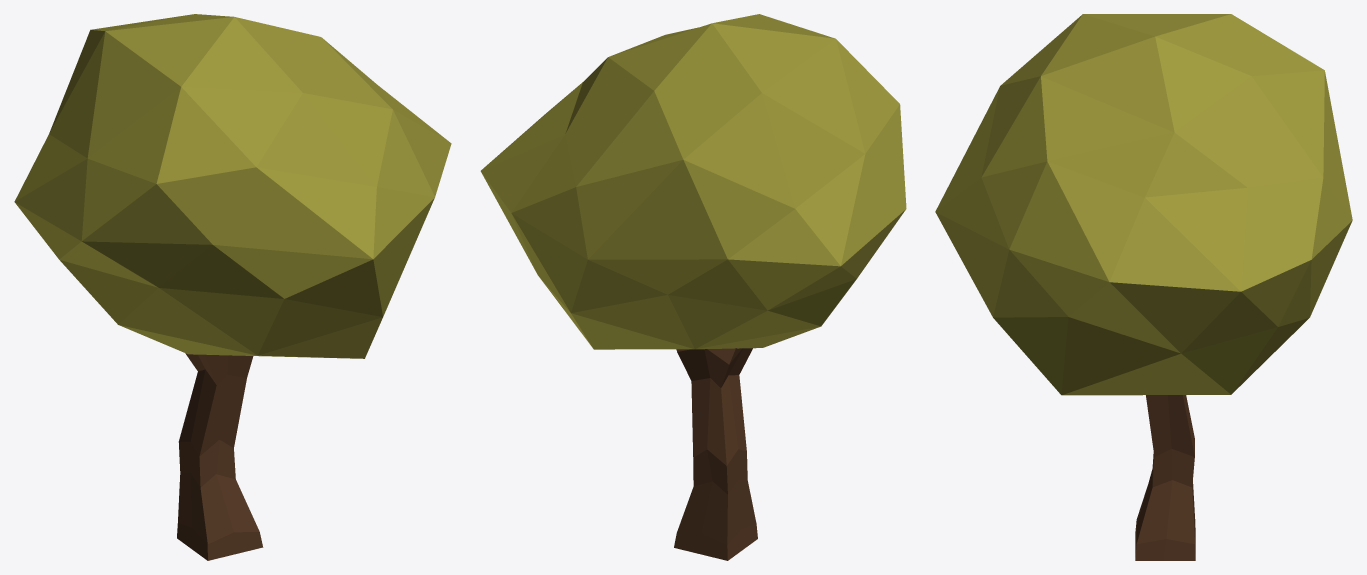
File: Tree_32_Yellow.fbx
3 renders of one model, left to right at view 1: azimuth 30°, elevation 25°; view 2: azimuth 150°, elevation 25°; view 3: azimuth 270°, elevation 25°, orthographic. The views are drawn at different scales.
Parts seen in each view (by area): view 1: Tree_32_Yellow_Part_1, Tree_32_Yellow_Part_2; view 2: Tree_32_Yellow_Part_1, Tree_32_Yellow_Part_2; view 3: Tree_32_Yellow_Part_1, Tree_32_Yellow_Part_2.
Boxes of the visible parts, x1,y1,x2,y2 form: Tree_32_Yellow_Part_1: [14, 14, 451, 358]; Tree_32_Yellow_Part_2: [177, 353, 263, 560]; Tree_32_Yellow_Part_1: [480, 14, 906, 349]; Tree_32_Yellow_Part_2: [674, 348, 757, 560]; Tree_32_Yellow_Part_1: [935, 14, 1352, 395]; Tree_32_Yellow_Part_2: [1135, 395, 1195, 560].
Bounding box in the file's own units: 597 × 814 × 598.
